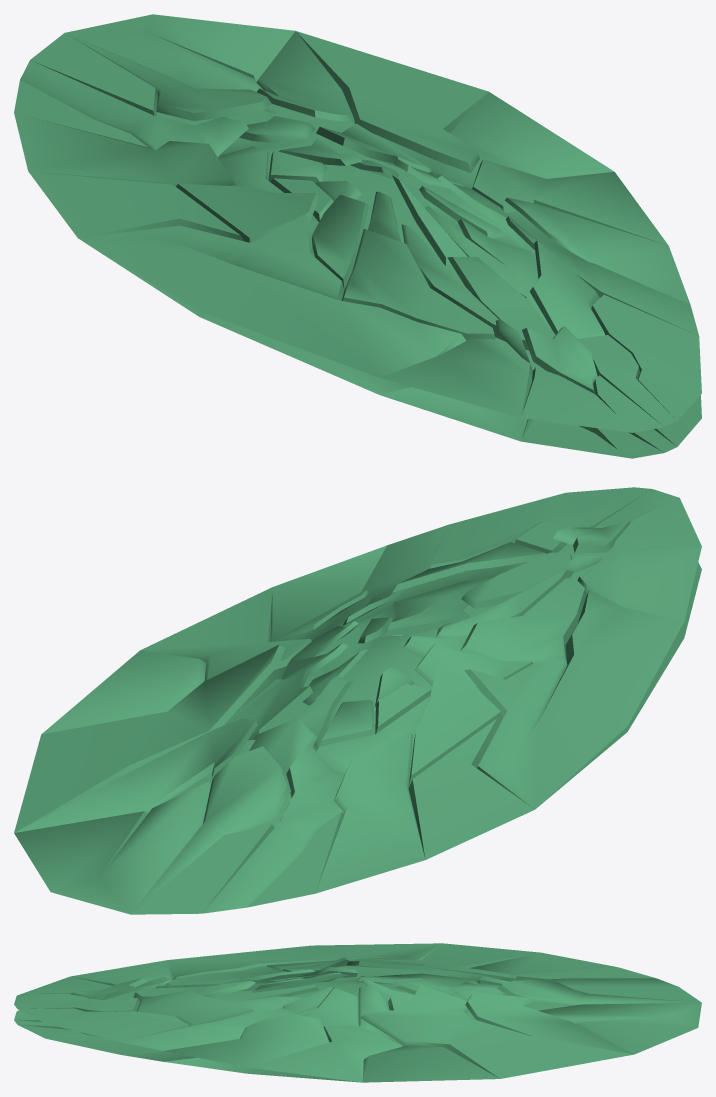
The model's file is etc_dargonship_weapon_eff_spear_eff2.glb.
The picture shows the model from 3 angles, top to bottom: view 1: azimuth 30°, elevation 25°; view 2: azimuth 150°, elevation 25°; view 3: azimuth 270°, elevation 25°; orthographic projection. The views are drawn at different scales.
Size of the model in its own units: 1.22 by 0.3193 by 2.55.
